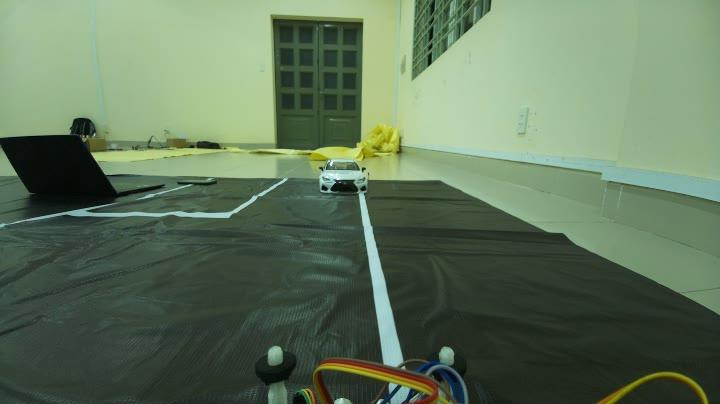car: (312, 154, 377, 200)
